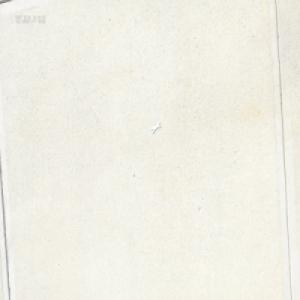Wrench: (151, 121, 161, 133)
